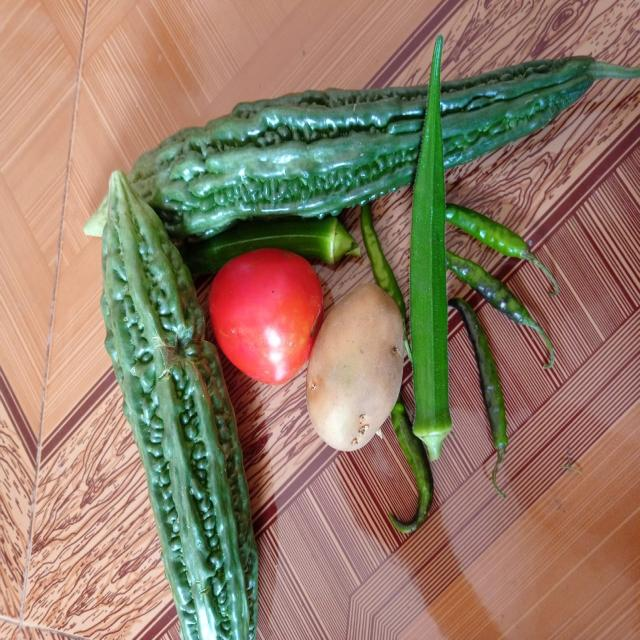Organik: (126, 27, 640, 228), (79, 162, 214, 640), (399, 35, 462, 452), (302, 286, 409, 462), (206, 255, 326, 379), (462, 302, 534, 493)
